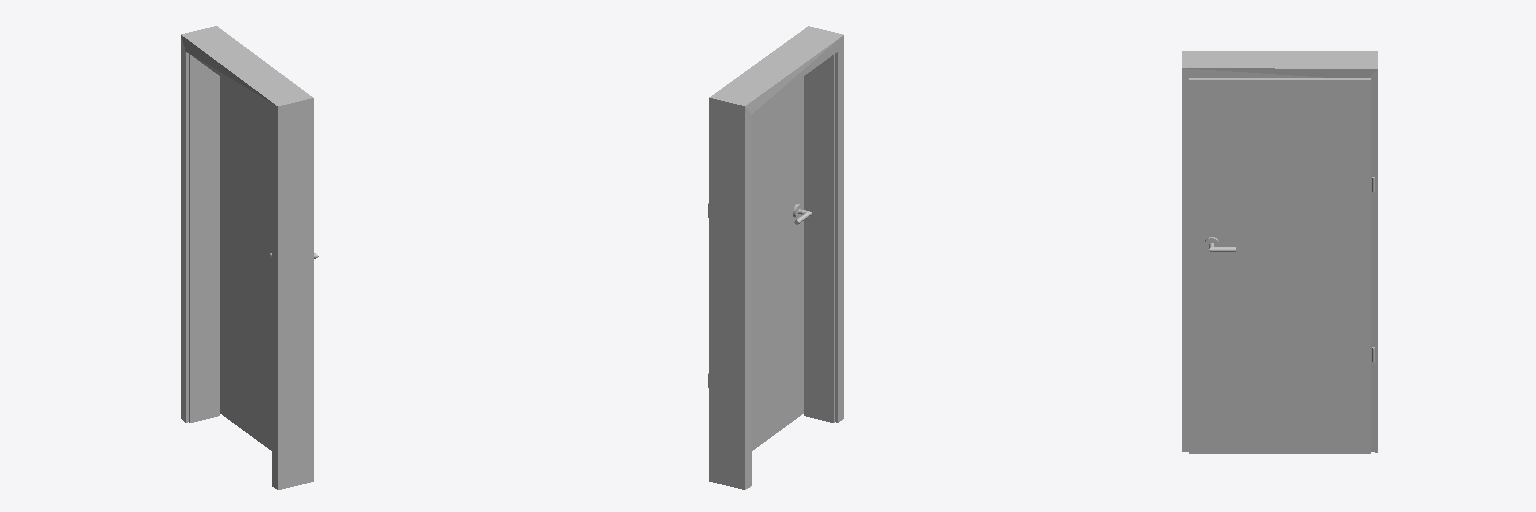
The model's file is door117.obj.
3 renders of one model, left to right at view 1: azimuth 30°, elevation 25°; view 2: azimuth 150°, elevation 25°; view 3: azimuth 270°, elevation 25°, orthographic.
Parts seen in each view (by area): view 1: Cylinder.005, Cylinder.001; view 2: Cylinder.005, Cylinder.001; view 3: Cylinder.001, Cylinder.005.
Boxes of the visible parts, box(x1,y1,x2,y2) form: Cylinder.005: box(181, 26, 313, 489); Cylinder.001: box(220, 77, 271, 450); Cylinder.005: box(708, 26, 843, 489); Cylinder.001: box(708, 77, 803, 450); Cylinder.001: box(1189, 78, 1374, 453); Cylinder.005: box(1182, 51, 1377, 452).
Size of the model in its own units: 0.3039 by 2.05 by 0.95.